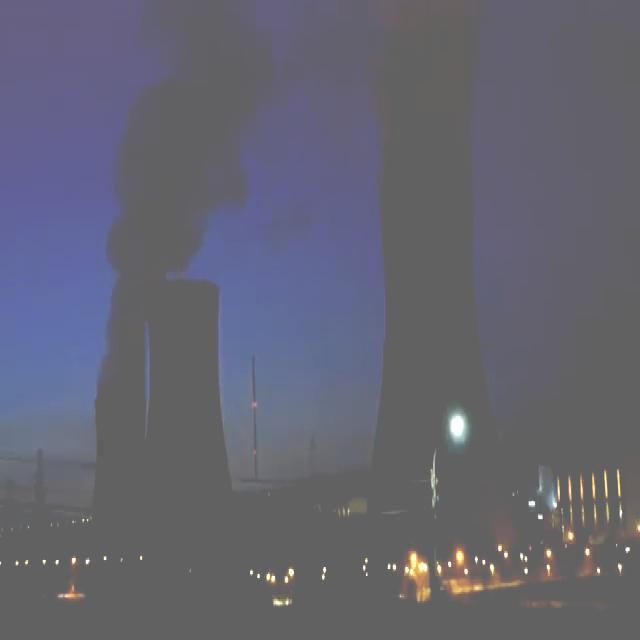smoke: (101, 0, 259, 384), (382, 0, 461, 196)
